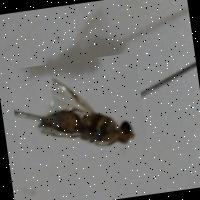Oriental-fruit-fly: (7, 51, 148, 170)
